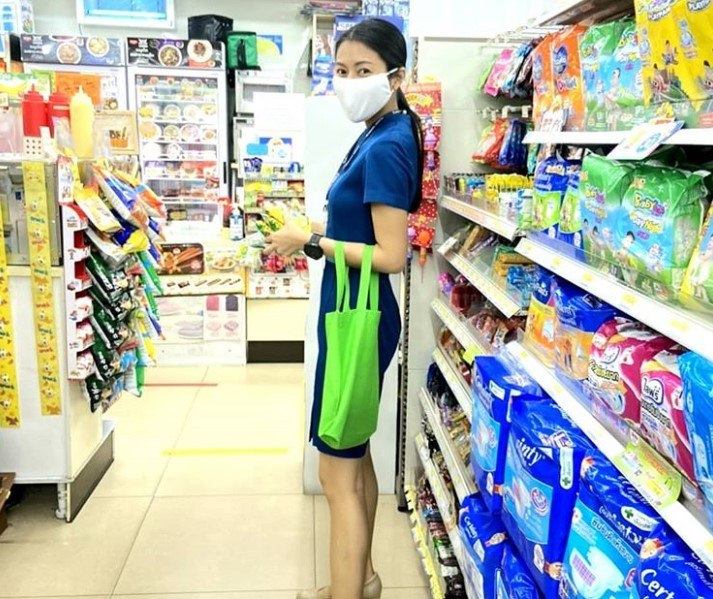face_with_mask: (327, 35, 408, 127)
